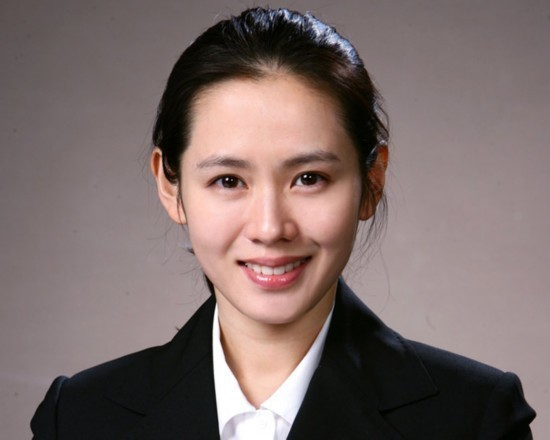unmask: (183, 90, 359, 307)
